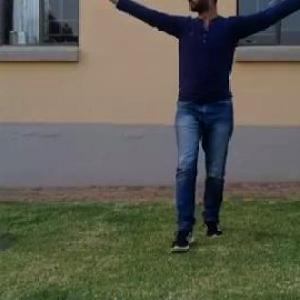takeoff: (108, 0, 278, 189)
